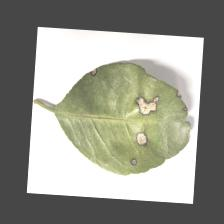canker: (80, 62, 188, 160)
